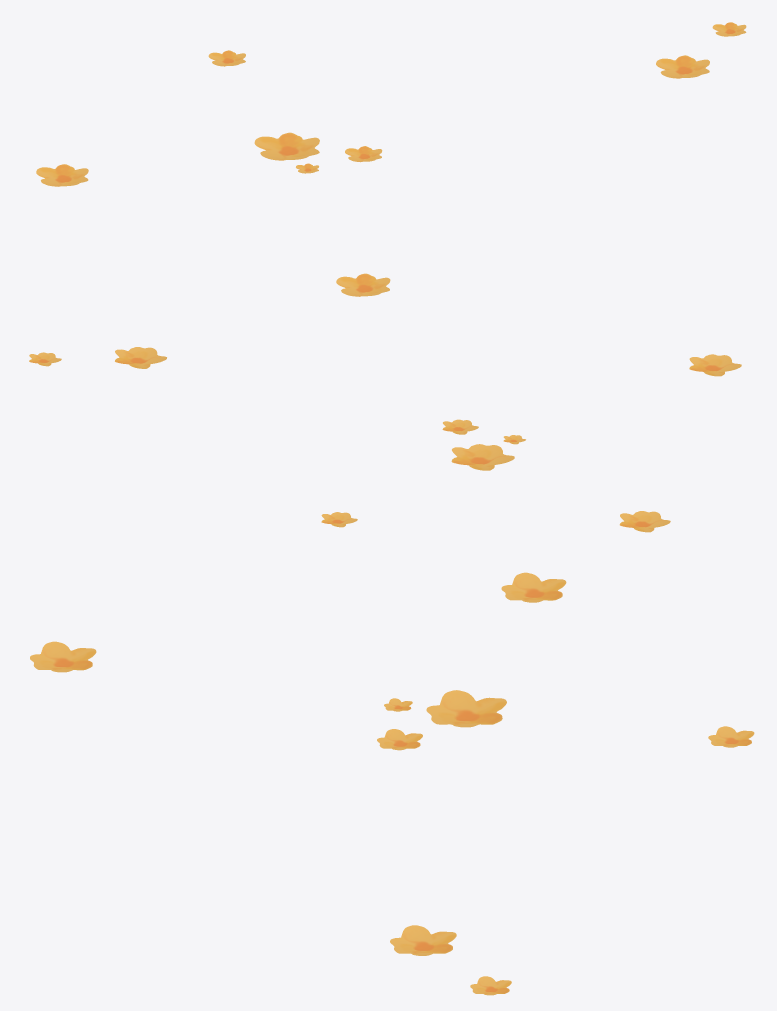
The model's file is Scene_hua_002.FBX.
3 views of the same model, one above another, from view 1: azimuth 30°, elevation 25°; view 2: azimuth 150°, elevation 25°; view 3: azimuth 270°, elevation 25° (orthographic). The views are drawn at different scales.
Visible parts, largest first — view 1: Scene_hua_002; view 2: Scene_hua_002; view 3: Scene_hua_002.
Boxes of the visible parts, box(x1,y1,x2,y2) form: Scene_hua_002: box(36, 22, 746, 296); Scene_hua_002: box(29, 347, 741, 532); Scene_hua_002: box(30, 572, 754, 995).
Bounding box in the file's own units: 151 × 2.06 × 111.
